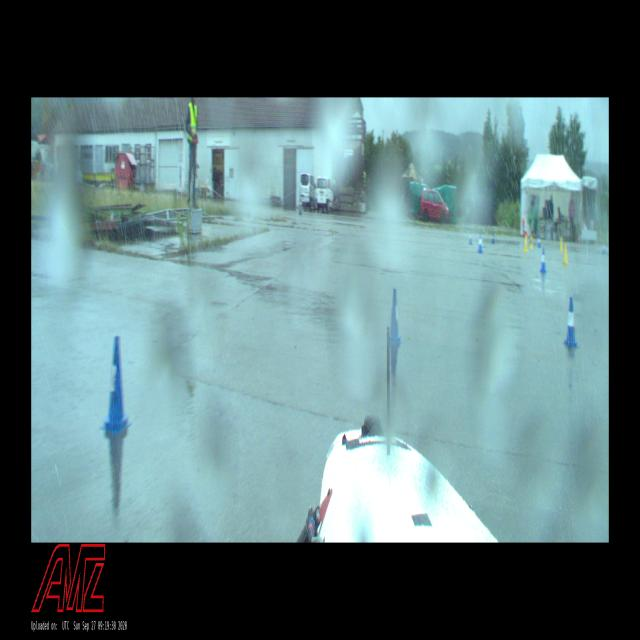blue_cone: (104, 336, 128, 431), (565, 297, 577, 346), (390, 288, 400, 344), (540, 247, 546, 272), (478, 234, 482, 252), (469, 229, 473, 244), (603, 241, 605, 254), (492, 232, 494, 244), (538, 236, 540, 247)
yellow_cone: (564, 247, 568, 264), (524, 237, 527, 252), (530, 237, 533, 249), (560, 238, 563, 250)
